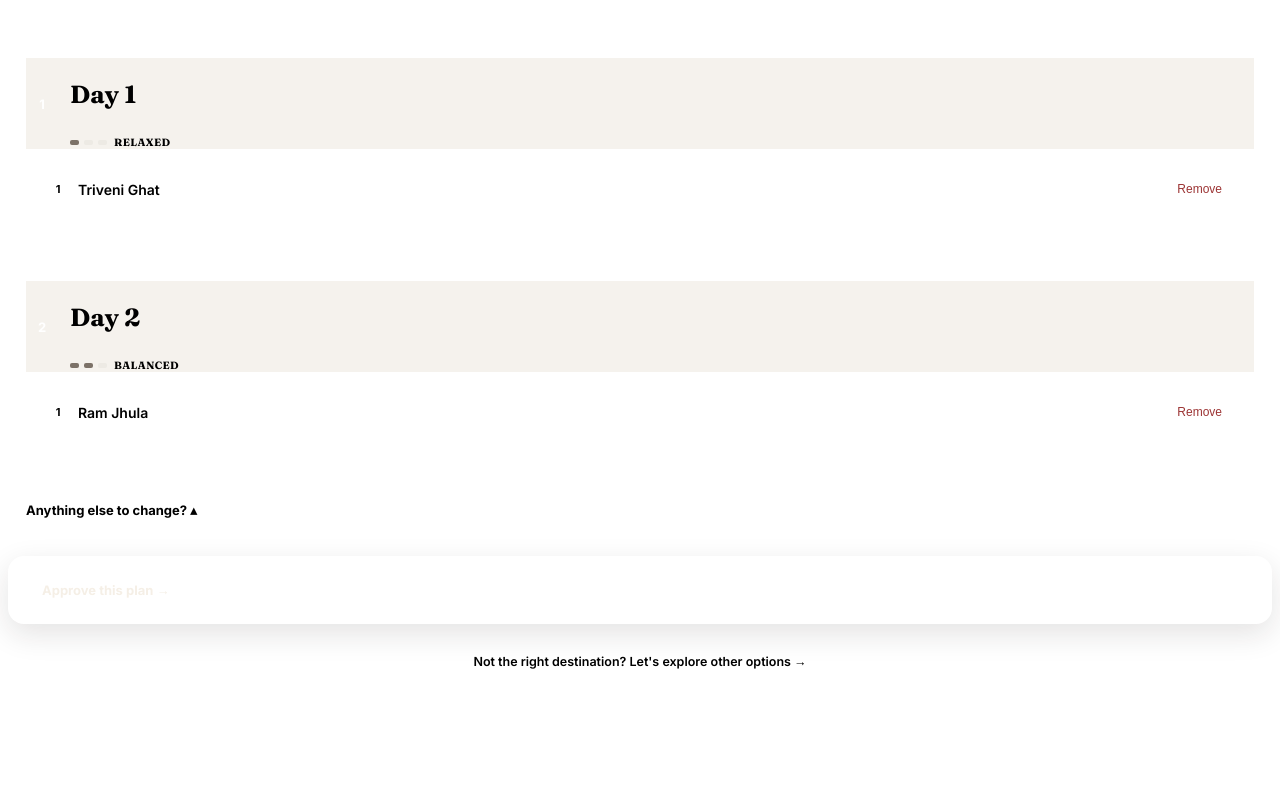
Test: TripPreview real Guide Plan Builder › reopen_destination_discovery reversal link › shows a revisit-vs-fresh choice when the backend asks for one
(page scrolled)
Click the button "Not the right destination? Let's explore other options →": (640, 662) top-left (473, 654), bottom-right (807, 669)
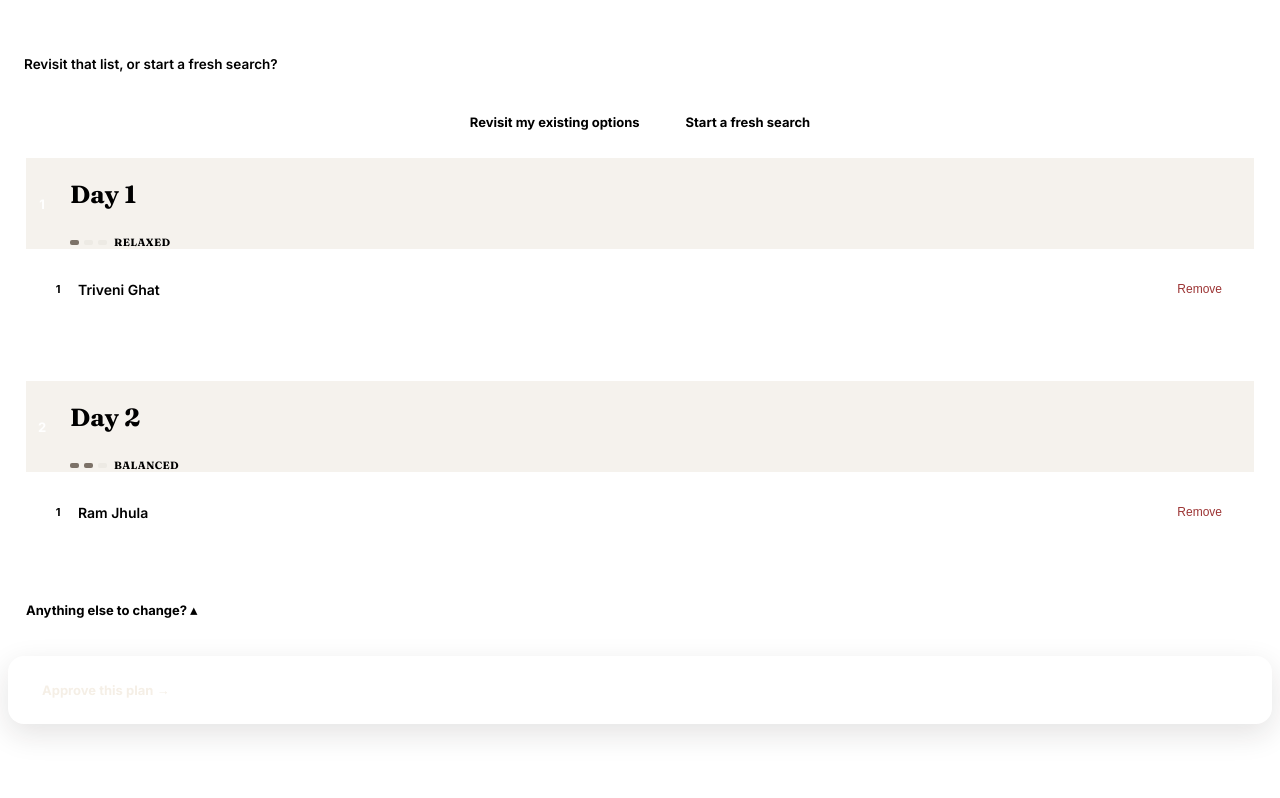
Now the text "Revisit that list, or start a fresh search?" is shown, box top-left (24, 56), bottom-right (278, 72)
Now the button "Revisit my existing options" is shown, box top-left (452, 102), bottom-right (658, 142)
Now the button "Start a fresh search" is shown, box top-left (668, 102), bottom-right (828, 142)
